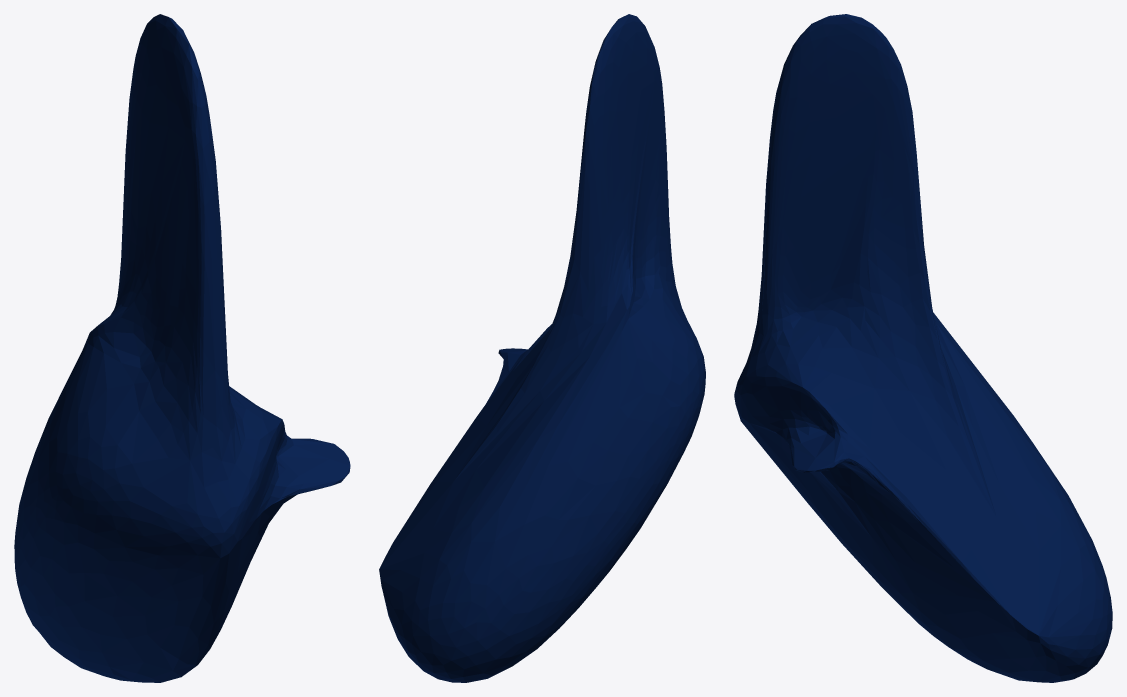
3 renders of one model, left to right at view 1: azimuth 30°, elevation 25°; view 2: azimuth 150°, elevation 25°; view 3: azimuth 270°, elevation 25°, orthographic. The views are drawn at different scales.
Visible parts, largest first — view 1: 257_Cube.1053; view 2: 257_Cube.1053; view 3: 257_Cube.1053.
Part boxes in pixels (x1,y1,x2,y2): 257_Cube.1053: [14, 14, 350, 682]; 257_Cube.1053: [379, 14, 705, 682]; 257_Cube.1053: [734, 14, 1112, 682].
Size of the model in its own units: 6.88 by 17.22 by 9.35.
